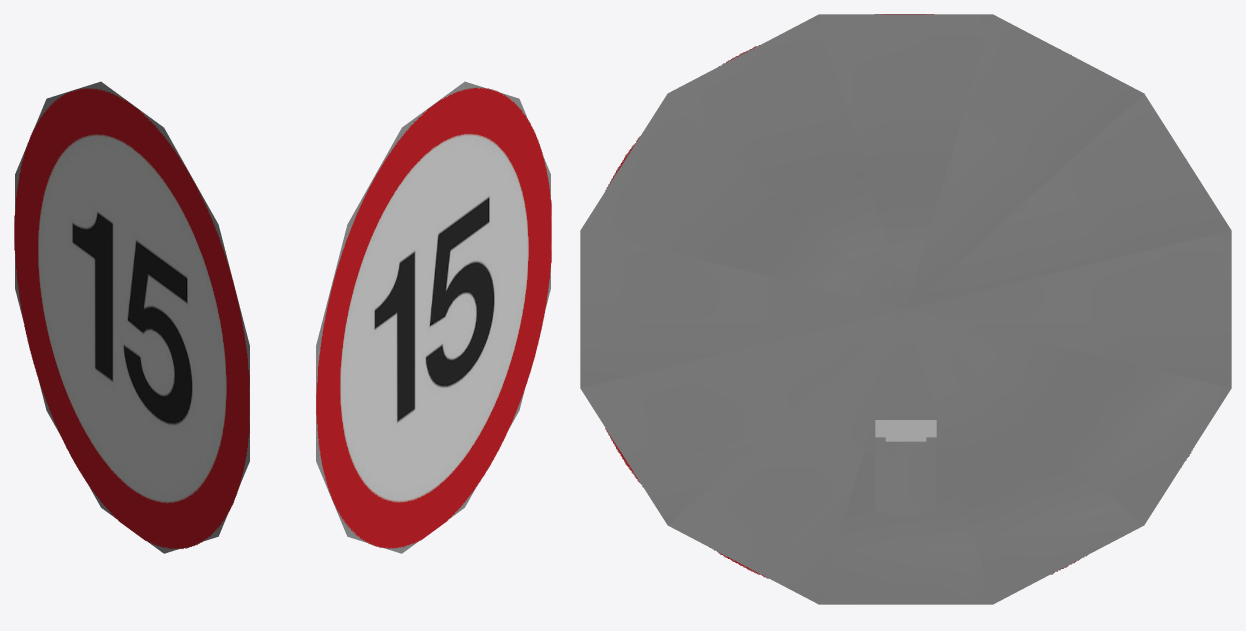
File: speed_15_large.obj
3 renders of one model, left to right at view 1: azimuth 30°, elevation 25°; view 2: azimuth 150°, elevation 25°; view 3: azimuth 270°, elevation 25°, orthographic. The views are drawn at different scales.
Parts seen in each view (by area): view 1: cube, circle; view 2: cube, circle; view 3: circle, cube.
Boxes of the visible parts, bbox=[...] form: cube: bbox=[14, 88, 249, 549]; circle: bbox=[15, 81, 249, 553]; cube: bbox=[316, 87, 551, 548]; circle: bbox=[316, 81, 550, 553]; circle: bbox=[580, 14, 1231, 604]; cube: bbox=[605, 14, 1192, 578].
Size of the model in its own units: 0.0797 by 1 by 1.
Materials: 2 (2 with a texture image).
